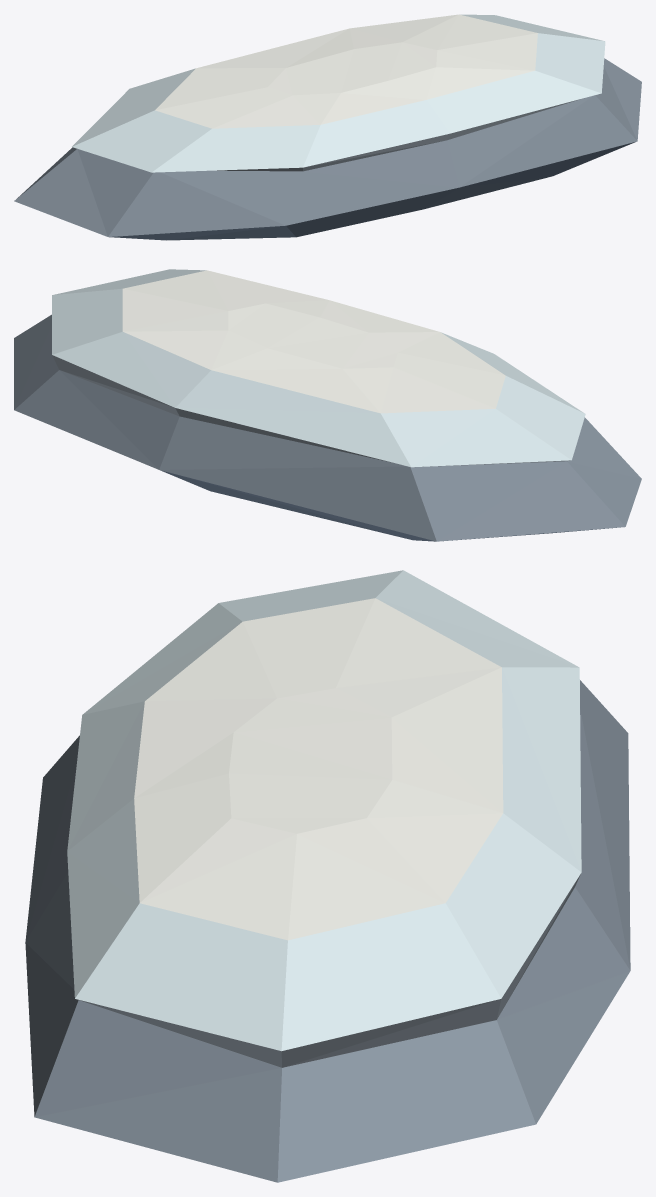
File: Slab.fbx
The picture shows the model from 3 angles, top to bottom: view 1: azimuth 30°, elevation 25°; view 2: azimuth 150°, elevation 25°; view 3: azimuth 270°, elevation 25°; orthographic projection. The views are drawn at different scales.
Parts seen in each view (by area): view 1: Slab; view 2: Slab; view 3: Slab.
Boxes of the visible parts, x1,y1,x2,y2 form: Slab: [14, 14, 641, 240]; Slab: [14, 269, 641, 541]; Slab: [25, 570, 630, 1182].
Bounding box in the file's own units: 4.94 × 0.8609 × 2.19.
Materials: 1 (1 with a texture image).
